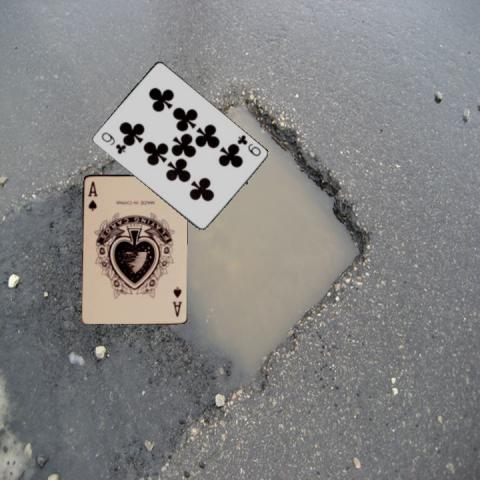9c: (98, 130, 127, 156), (234, 132, 262, 158)
As: (170, 283, 184, 318), (85, 178, 98, 212)
